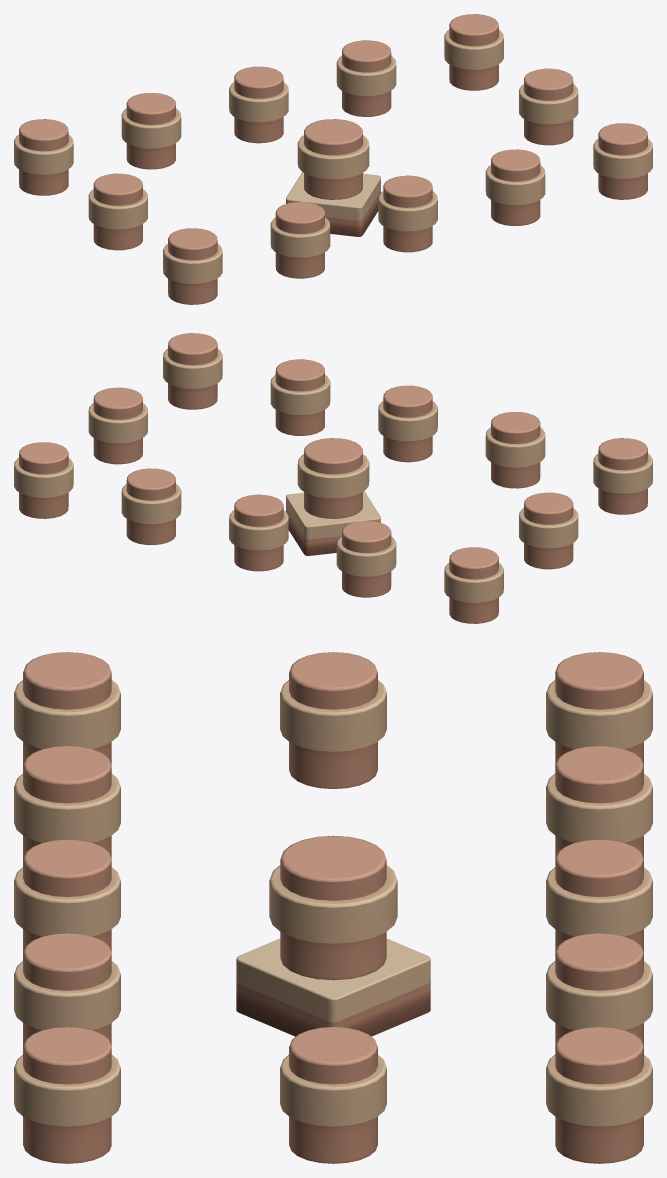
File: Props.fbx
3 renders of one model, top to bottom at view 1: azimuth 30°, elevation 25°; view 2: azimuth 150°, elevation 25°; view 3: azimuth 270°, elevation 25°, orthographic. The views are drawn at different scales.
Visible parts, largest first — view 1: Cylinder-3, Cylinder (10), Cylinder (11), Cylinder (9), Cylinder (12), Cylinder (8), Cylinder (7), Cylinder (4), Cylinder (1), Cylinder (5), Cylinder (6), Cylinder (2) (+2 smaller); view 2: Cylinder-3, Cylinder (9), Cylinder (12), Cylinder (10), Cylinder (11), Cylinder (7), Cylinder (8), Cylinder (4), Cylinder (1), Cylinder (6), Cylinder (5), Cylinder (2) (+2 smaller); view 3: Cylinder-3, Box02, Cylinder (5), Cylinder (6), Cylinder (1), Cylinder (4), Cylinder (7), Cylinder (8), Cylinder (11), Cylinder (12), Cylinder (2), Cylinder (3) (+2 smaller).
Part boxes in pixels (x1,y1,x2,y2): Cylinder-3: (297,119,369,199); Cylinder (10): (121,93,181,169); Cylinder (11): (485,149,545,225); Cylinder (9): (270,202,330,278); Cylinder (12): (336,40,396,116); Cylinder (8): (229,66,288,143); Cylinder (7): (378,175,437,252); Cylinder (4): (519,68,578,145); Cylinder (1): (88,173,147,250); Cylinder (5): (593,123,652,199); Cylinder (6): (444,14,503,90); Cylinder (2): (163,228,222,304); Cylinder-3: (297,438,369,518); Cylinder (9): (485,412,545,488); Cylinder (12): (121,468,181,544); Cylinder (10): (336,521,396,597); Cylinder (11): (270,359,330,435); Cylinder (7): (378,385,437,462); Cylinder (8): (229,494,288,571); Cylinder (4): (88,387,147,464); Cylinder (1): (519,492,578,569); Cylinder (6): (14,442,73,518); Cylinder (5): (163,333,222,409); Cylinder (2): (593,438,652,514); Cylinder-3: (269,835,397,980); Box02: (236,938,430,1036); Cylinder (5): (14,1027,120,1163); Cylinder (6): (546,1027,652,1163); Cylinder (1): (280,652,386,788); Cylinder (4): (280,1027,386,1163); Cylinder (7): (14,839,120,952); Cylinder (8): (546,839,652,952); Cylinder (11): (14,933,120,1046); Cylinder (12): (546,933,652,1046); Cylinder (2): (14,652,120,765); Cylinder (3): (546,652,652,765).
Size of the model in its own units: 44.82 by 7.62 by 28.82.
Materials: 2 (2 with a texture image).
